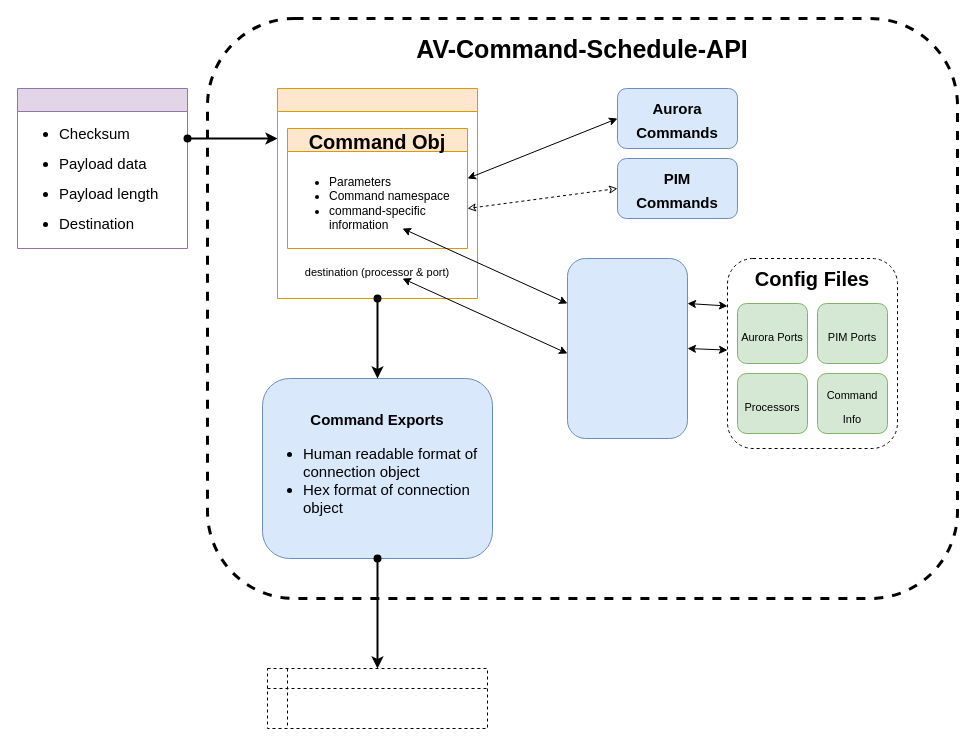
This 976x746 diagram has some shape labels left out. Each missing label, with the box of its shape:
Aurora Ping: (16, 88, 188, 248)
Connection Obj: (276, 88, 478, 298)
File Reader: (566, 258, 688, 438)
redis: (266, 668, 488, 728)
